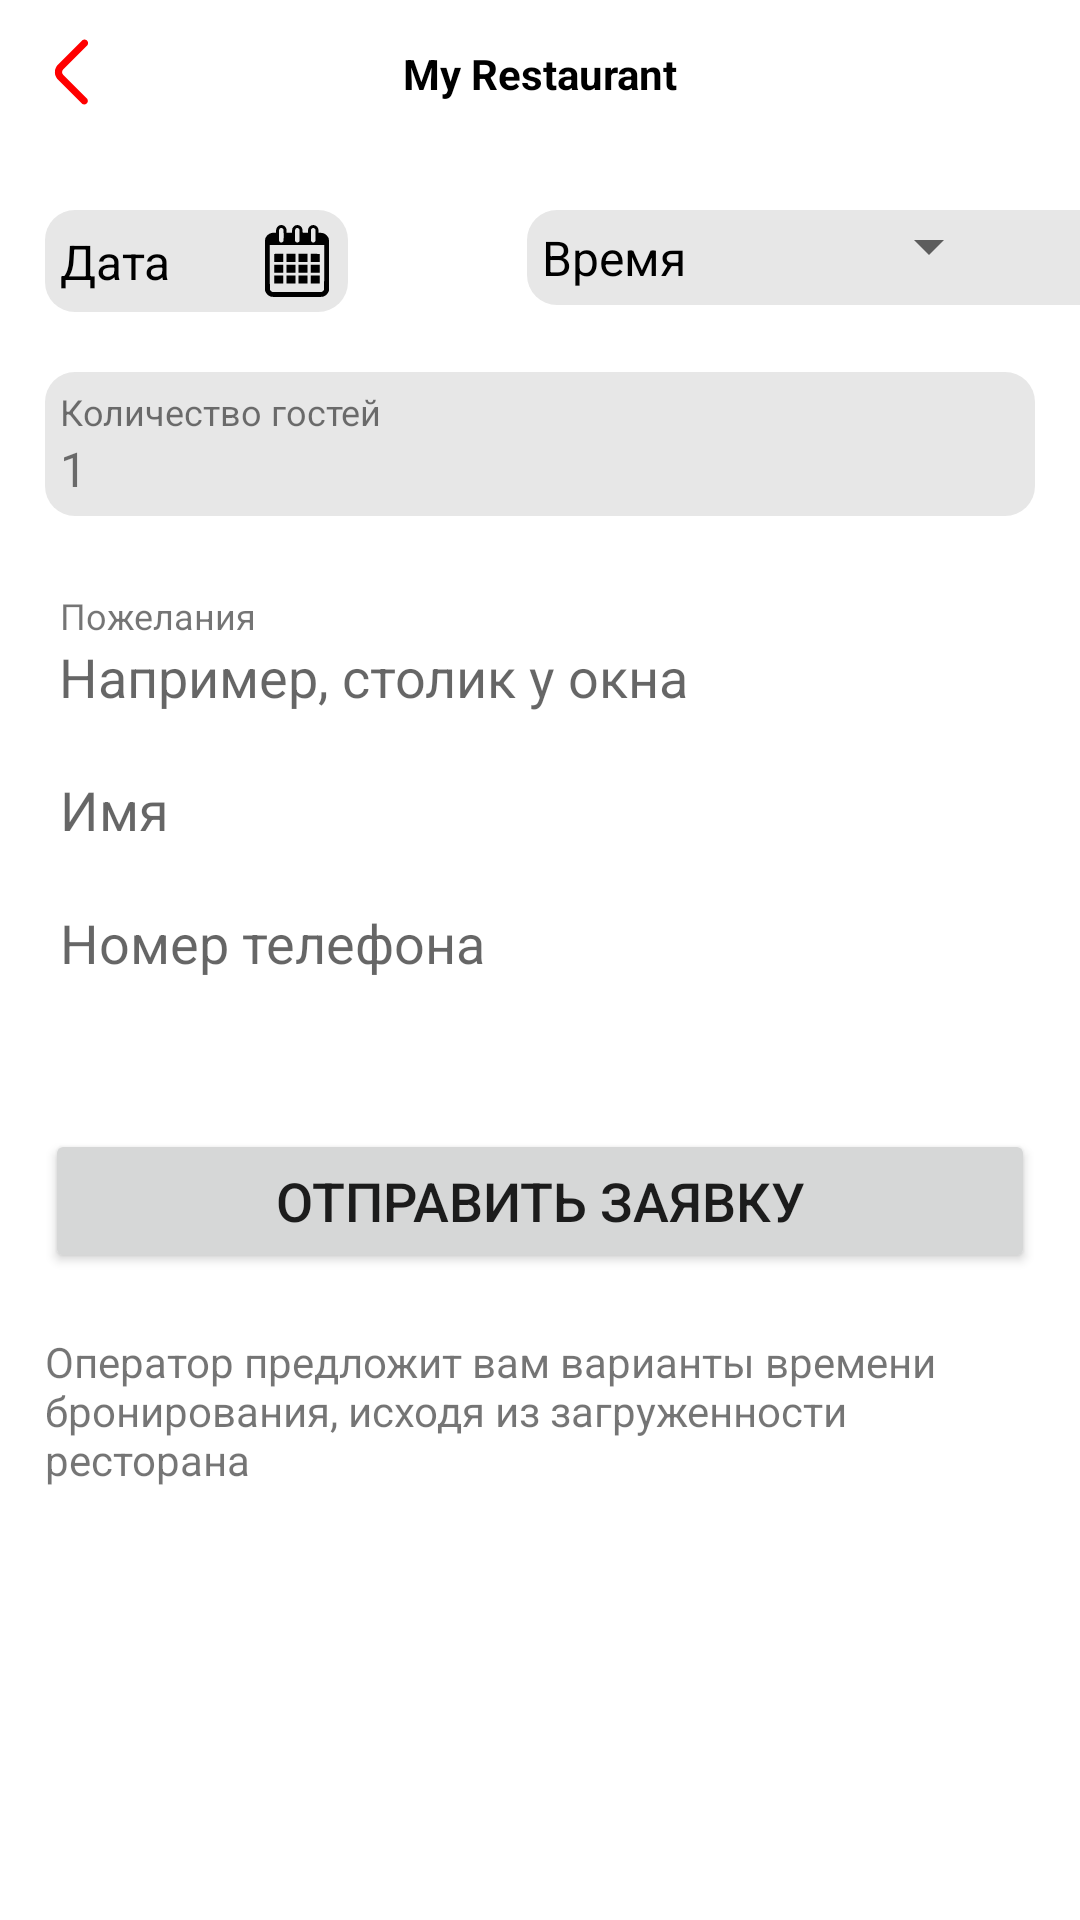

Where to tap for icons on this 1080 x 1920 app screen, as (x,y):
back: (71,72)
calendar: (297,261)
